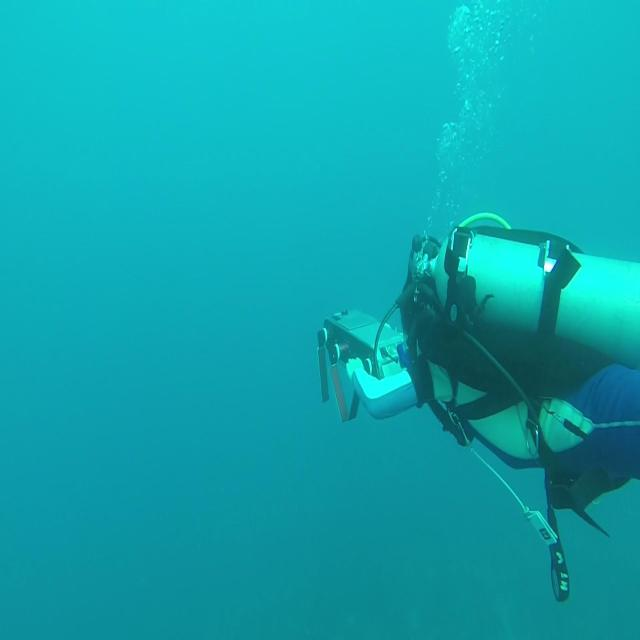human: (317, 214, 638, 601)
